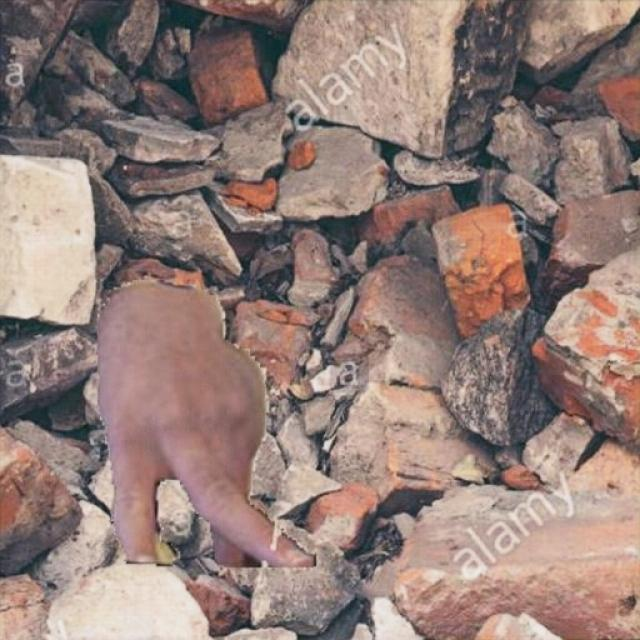Person in Rubble: (95, 280, 315, 566)
